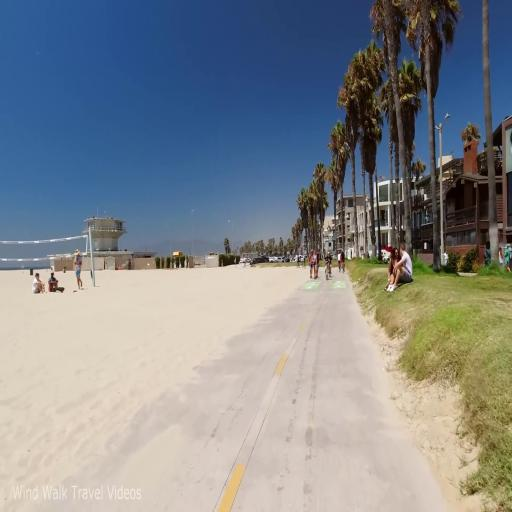Street_Light: (432, 109, 453, 274)
